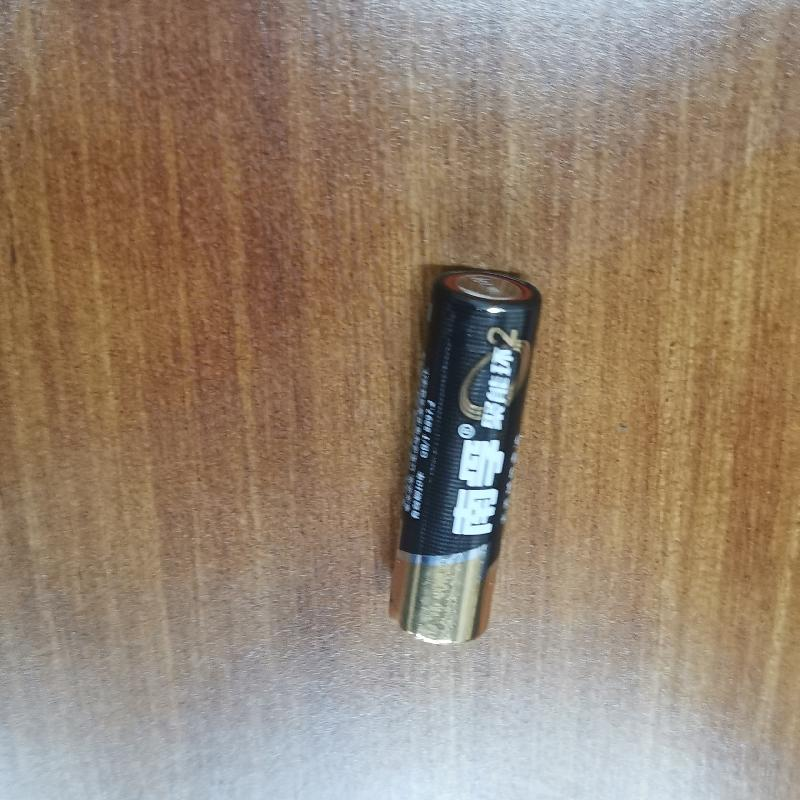battery: (385, 260, 545, 653)
